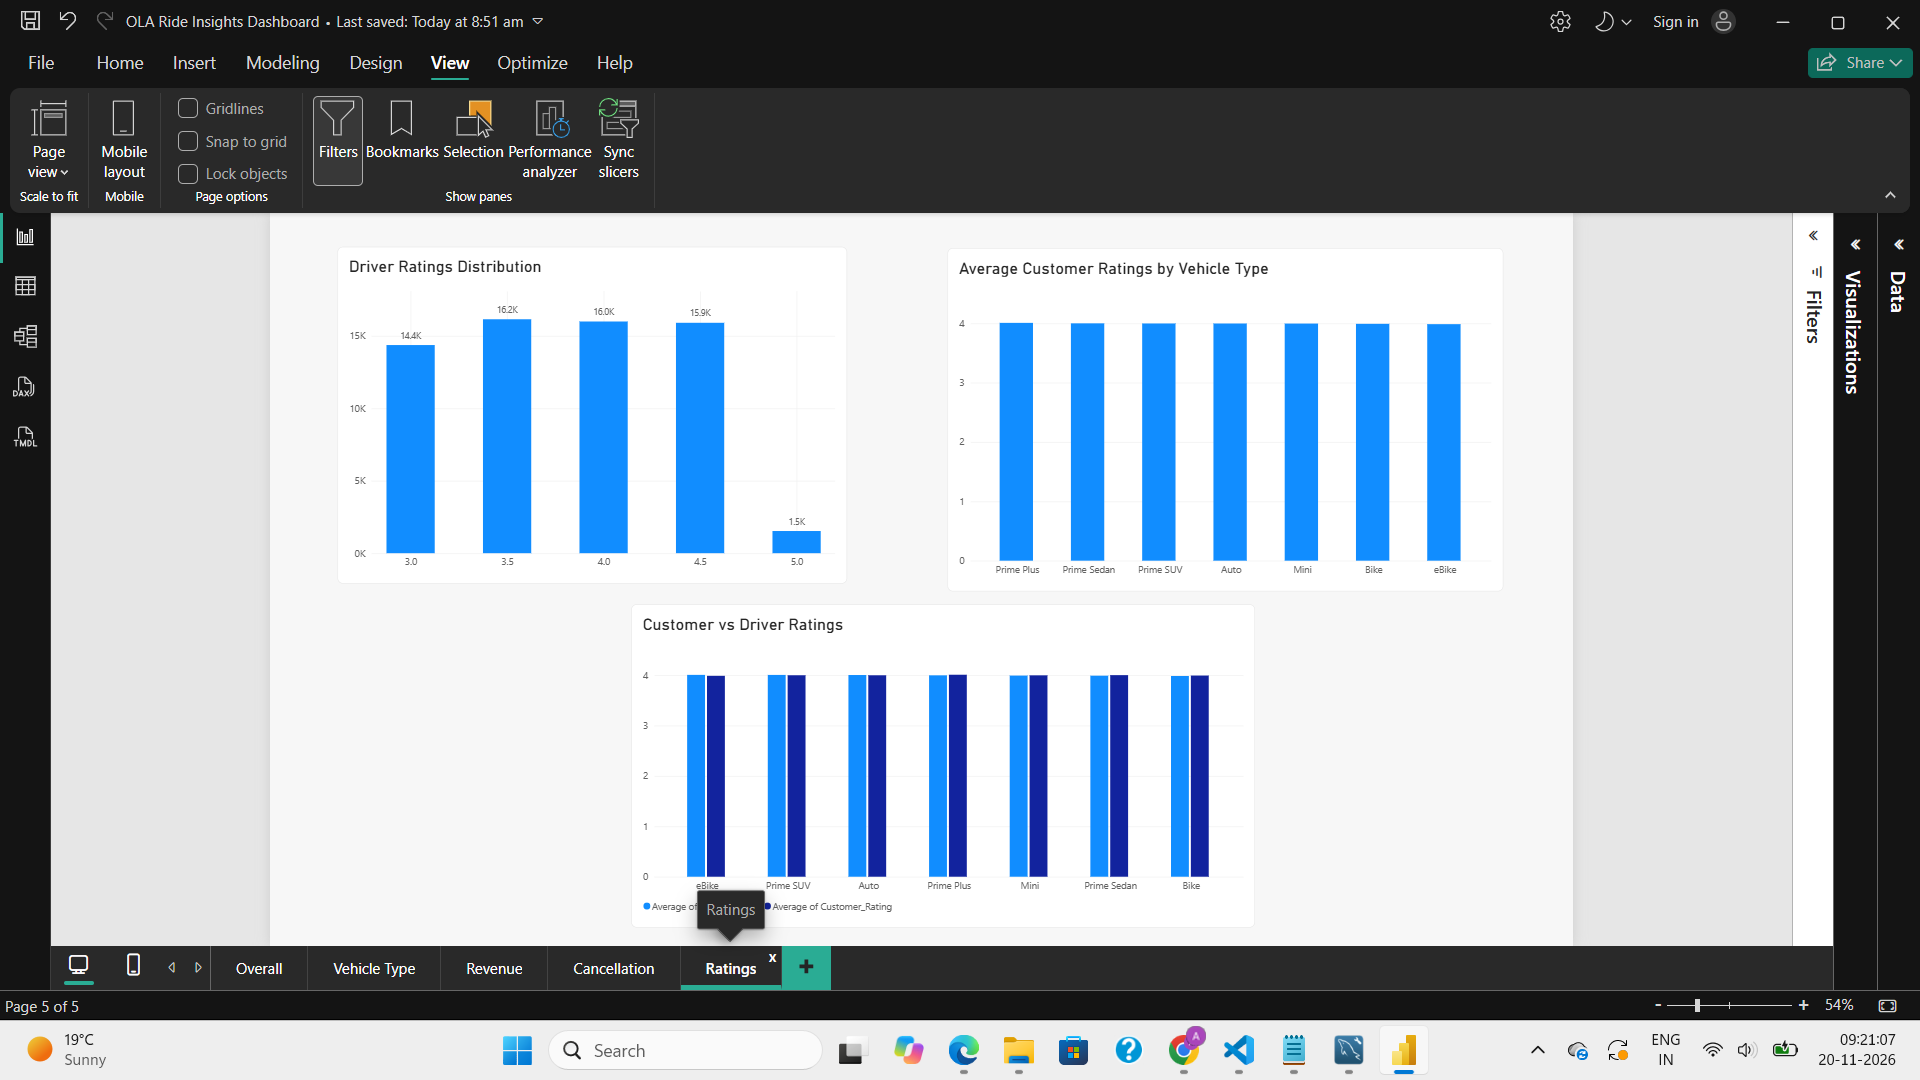

The page's visual inventory and layout, read from the dashboard file:
{"tool":"powerbi","page":{"name":"Ratings","canvas":[1920,1080],"ordinal":4},"visuals":[{"type":"clusteredColumnChart","title":"Average Customer Ratings by Vehicle Type","fields":{"Category":["ola_ride_project ola_rides.Vehicle_Type"],"Y":["Avg(ola_ride_project ola_rides.Customer_Rating)"]},"box":[998,50.8,818,505.2],"z":1},{"type":"clusteredColumnChart","title":"Customer vs Driver Ratings","fields":{"Category":["ola_ride_project ola_rides.Vehicle_Type"],"Y":["Avg(ola_ride_project ola_rides.Driver_Ratings)","Avg(ola_ride_project ola_rides.Customer_Rating)"]},"box":[531.2,575.2,918.8,476],"z":2},{"type":"clusteredColumnChart","title":"Driver Ratings Distribution","fields":{"Category":["ola_ride_project ola_rides.Driver_Ratings (bins)"],"Y":["CountNonNull(ola_ride_project ola_rides.Booking_ID)"]},"box":[100,50,750,496],"z":3}]}

Visuals, with their boxes on the page's 1920x1080 design canvas (x1, y1, x2, y2). These are canvas units, not pixel positions in the 1920x1080 screenshot, which may show the page scaled, cropped or inside an application window:
"Average Customer Ratings by Vehicle Type" clusteredColumnChart: [998, 51, 1816, 556]
"Customer vs Driver Ratings" clusteredColumnChart: [531, 575, 1450, 1051]
"Driver Ratings Distribution" clusteredColumnChart: [100, 50, 850, 546]
